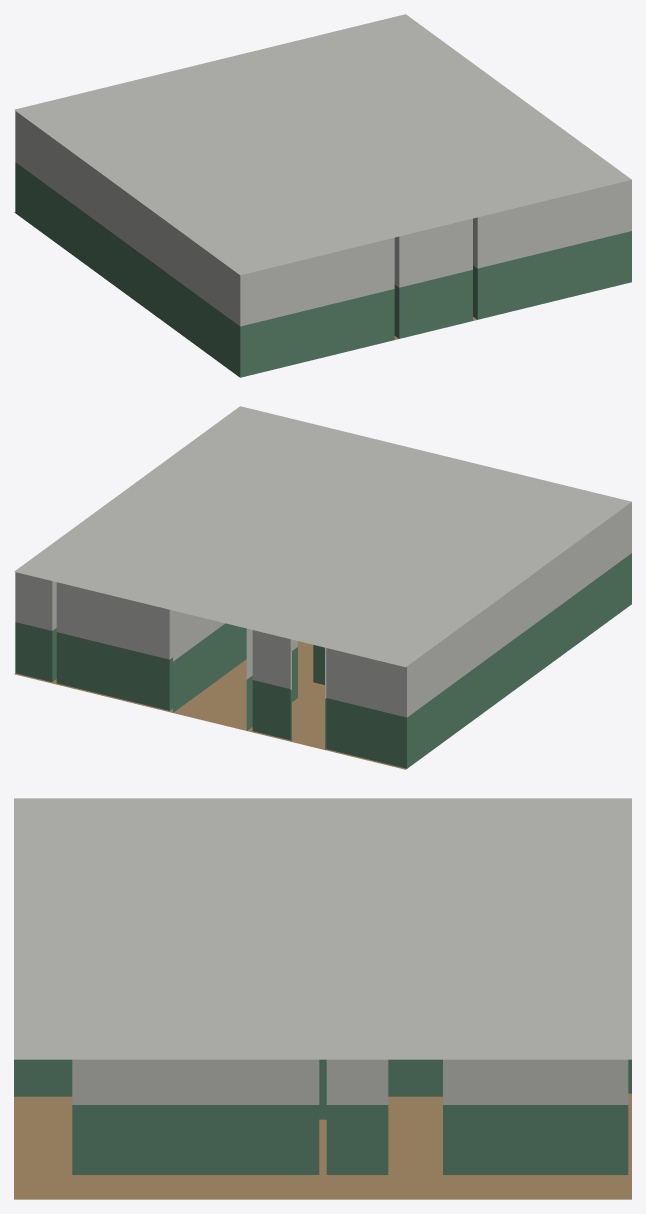
Rendered from chunk_0_3.glb.
The picture shows the model from 3 angles, top to bottom: view 1: azimuth 30°, elevation 25°; view 2: azimuth 150°, elevation 25°; view 3: azimuth 270°, elevation 25°; orthographic projection. The views are drawn at different scales.
Parts seen in each view (by area): view 1: chunk_0_3; view 2: chunk_0_3; view 3: chunk_0_3.
Part boxes in pixels (x1,y1,x2,y2): chunk_0_3: (14, 14, 631, 377); chunk_0_3: (14, 406, 631, 769); chunk_0_3: (14, 798, 631, 1199).
Bounding box in the file's own units: 12 × 3 × 12.
